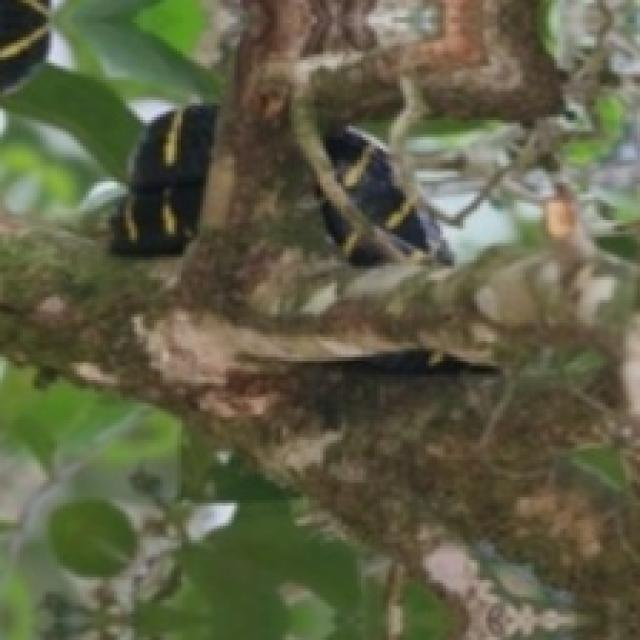mangrove cat snake: (317, 126, 451, 291), (323, 126, 451, 263), (111, 106, 214, 254)
